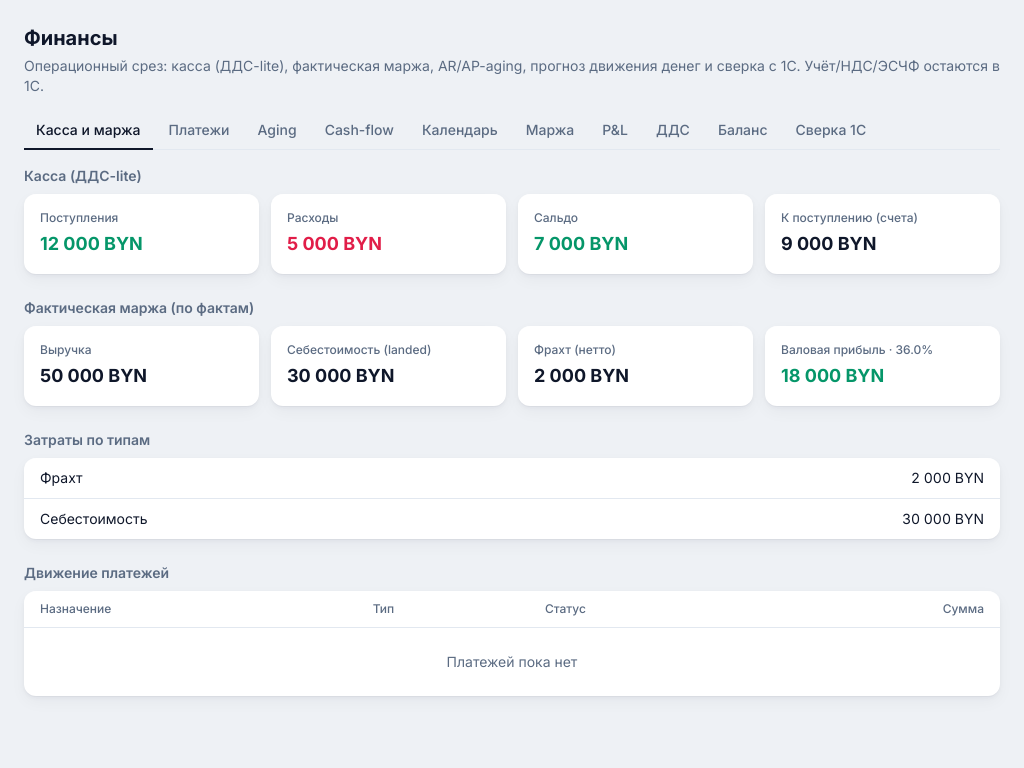
Test: FinanceView › переключение на «Платежи» с пустым списком показывает пустое состояние
Check: the heading "Касса (ДДС-lite)" is shown, box 24,167 -> 142,184
Step 1. Click the button "Платежи" → (199, 131), box 156,112 -> 242,150
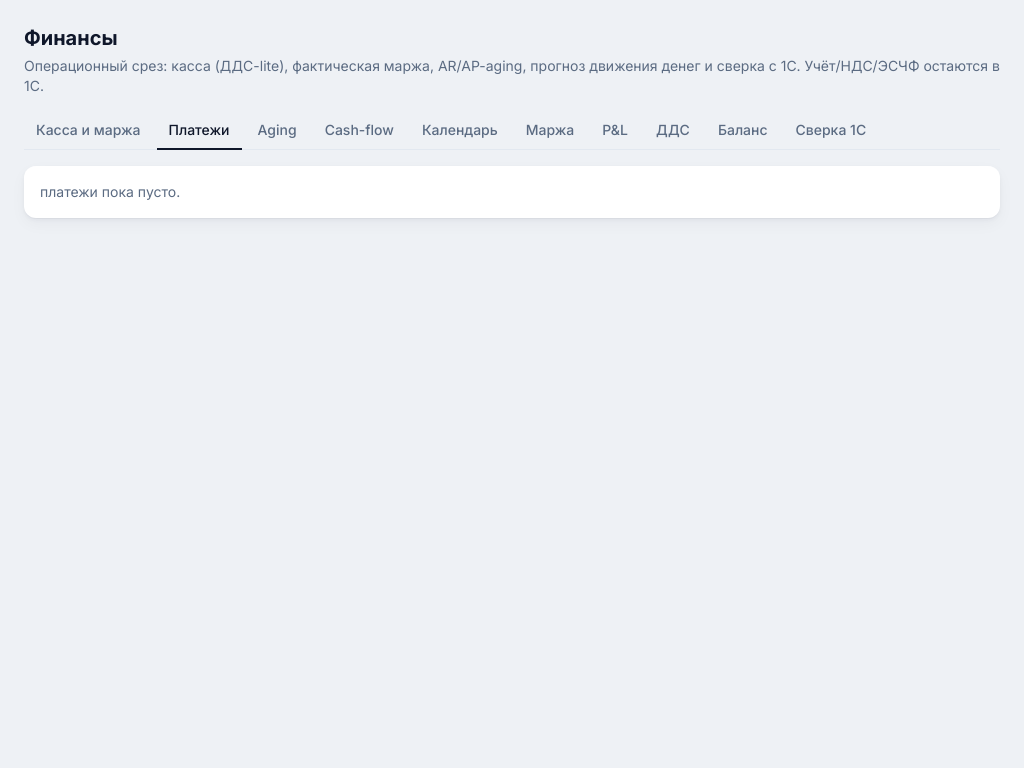
Check: the text "платежи пока пусто." is shown, box 24,166 -> 1000,218
